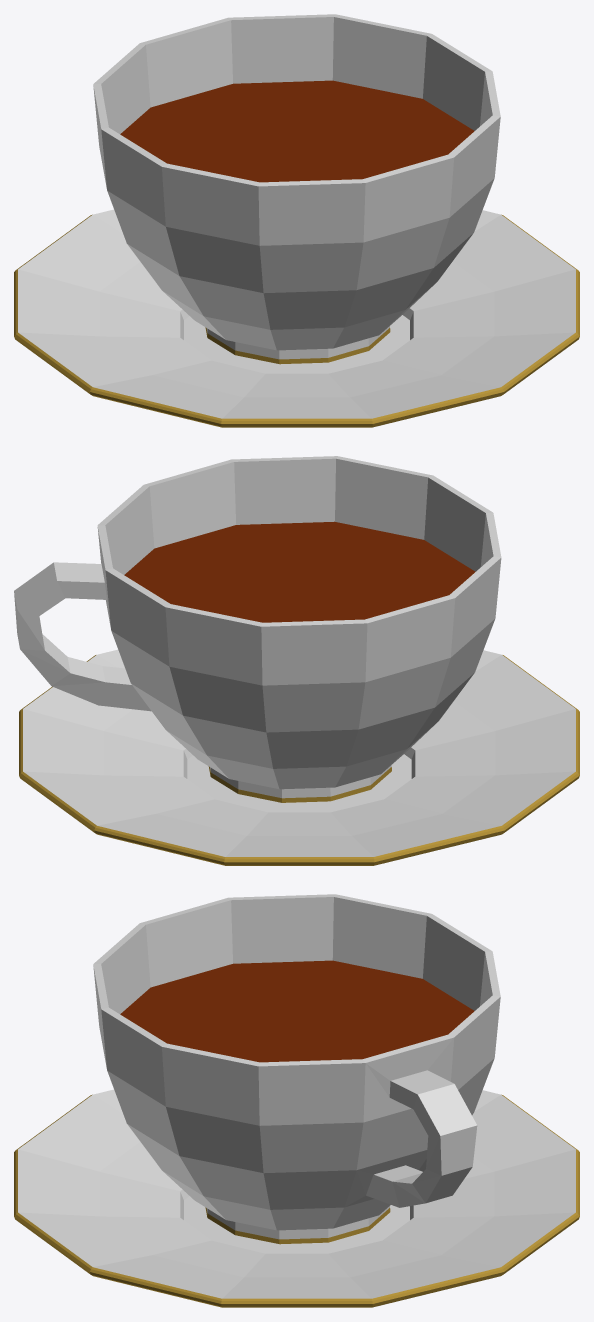
The model's file is Cup of tea.glb.
The picture shows the model from 3 angles, top to bottom: view 1: azimuth 30°, elevation 25°; view 2: azimuth 150°, elevation 25°; view 3: azimuth 270°, elevation 25°; orthographic projection.
Parts seen in each view (by area): view 1: Node; view 2: Node; view 3: Node.
Part boxes in pixels (x1,y1,x2,y2): Node: (14, 14, 579, 427); Node: (14, 456, 579, 865); Node: (14, 894, 579, 1307).
Bounding box in the file's own units: 3.46 × 1.64 × 3.46.
